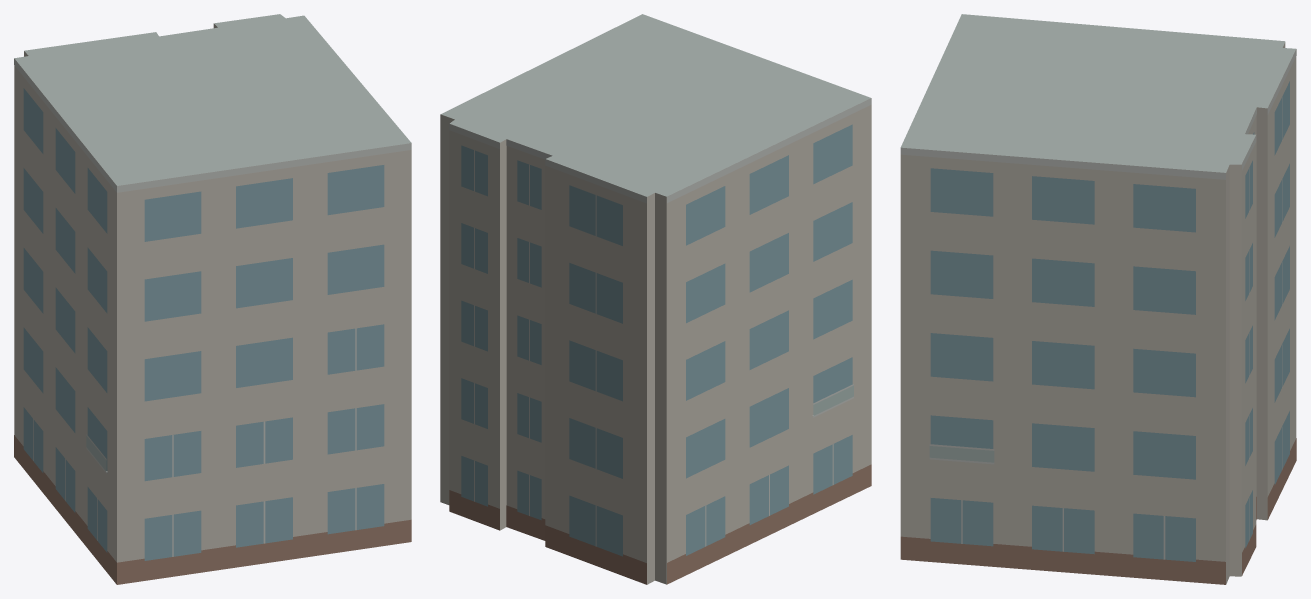
The model's file is survey-upis-32995105.glb.
3 renders of one model, left to right at view 1: azimuth 30°, elevation 25°; view 2: azimuth 150°, elevation 25°; view 3: azimuth 270°, elevation 25°, orthographic. The views are drawn at different scales.
Visible parts, largest first — view 1: survey-upis-32995105.tmp; view 2: survey-upis-32995105.tmp; view 3: survey-upis-32995105.tmp.
Boxes of the visible parts, left/top/right/bottom form: survey-upis-32995105.tmp: left=14, top=14, right=411, bottom=584; survey-upis-32995105.tmp: left=440, top=14, right=871, bottom=584; survey-upis-32995105.tmp: left=900, top=14, right=1296, bottom=584.
Bounding box in the file's own units: 11.88 × 14.35 × 12.51.
